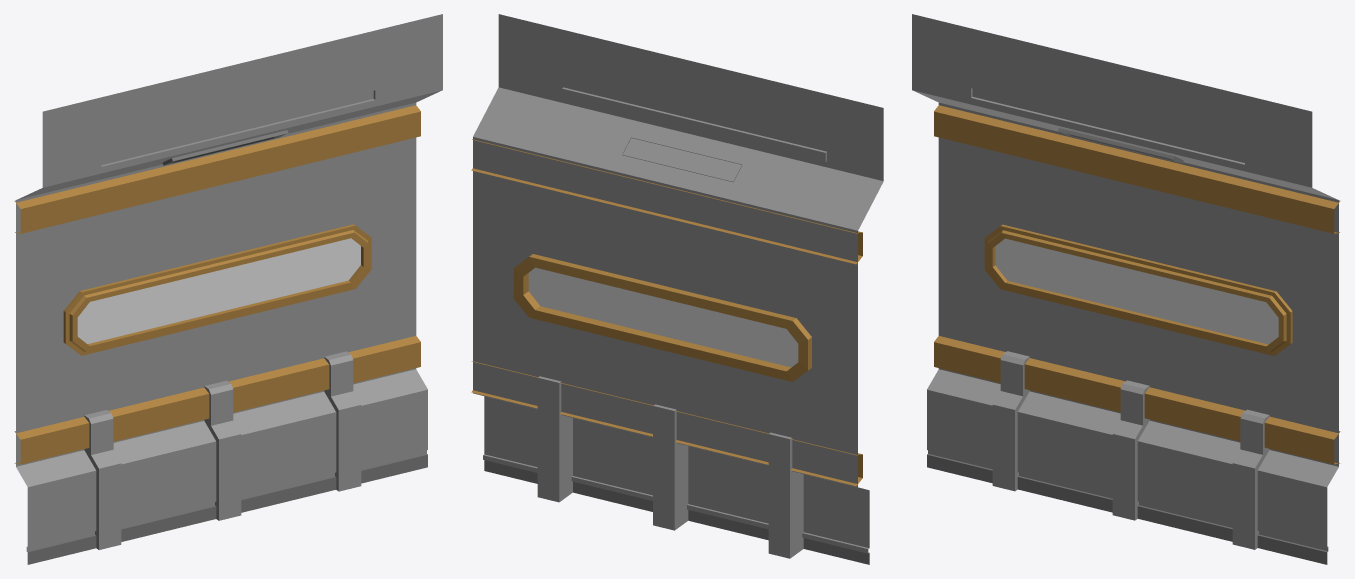
File: LongWindow_Wall_SideB.fbx
3 views of the same model, side by side, from view 1: azimuth 30°, elevation 25°; view 2: azimuth 150°, elevation 25°; view 3: azimuth 330°, elevation 25° (orthographic). The views are drawn at different scales.
Visible parts, largest first — view 1: LongWindow_Wall_SideB; view 2: LongWindow_Wall_SideB; view 3: LongWindow_Wall_SideB.
Boxes of the visible parts, x1,y1,x2,y2 form: LongWindow_Wall_SideB: [14, 14, 442, 564]; LongWindow_Wall_SideB: [471, 14, 883, 564]; LongWindow_Wall_SideB: [912, 14, 1340, 564].
Bounding box in the file's own units: 400 × 443 × 53.55.
